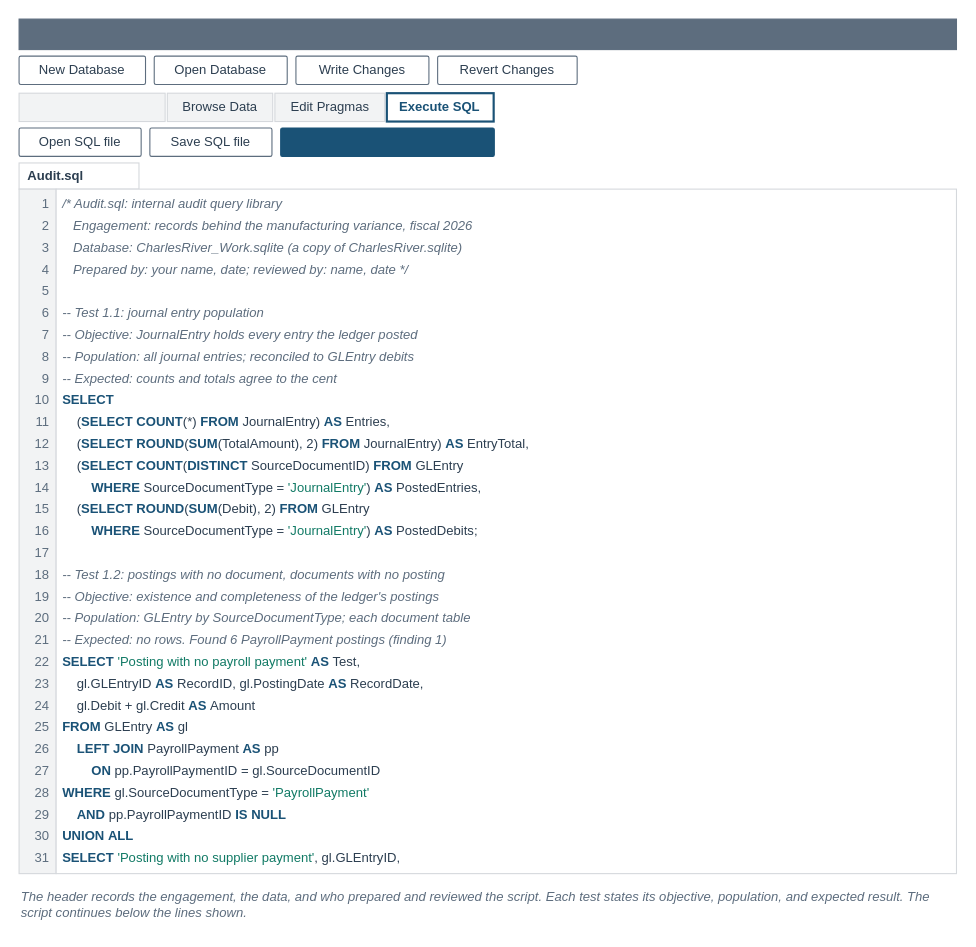
This 976x947 diagram has some shape labels left out. Each missing label, with the centre of its shape:
"Database Structure" belongs at pixel 91 107.
"DB Browser for SQLite - CharlesRiver_Work.sqlite" belongs at pixel 487 34.
"▶ Execute all/selected SQL" belongs at pixel 387 141.
